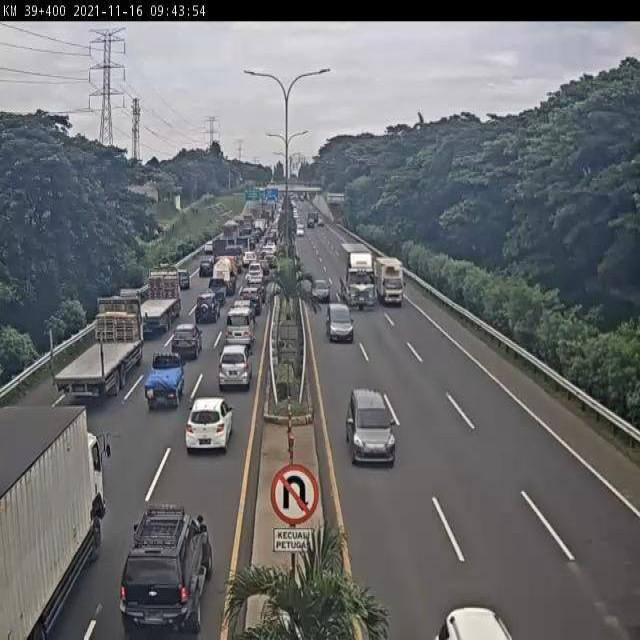car: (119, 508, 218, 632), (347, 388, 397, 467), (185, 398, 235, 458), (144, 349, 187, 408), (218, 345, 254, 396), (324, 301, 354, 348), (171, 324, 203, 363), (225, 308, 254, 349), (193, 294, 220, 329), (209, 279, 229, 305), (312, 279, 332, 305), (176, 269, 194, 296)
small truck: (374, 252, 408, 312)
truck-l-: (41, 297, 143, 411), (131, 269, 181, 347), (339, 243, 375, 309)
